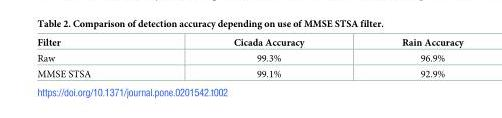table: (36, 37, 462, 78)
table column: (161, 37, 352, 78), (36, 37, 161, 78), (352, 37, 462, 78)
table column header: (36, 37, 462, 49)
table row: (36, 49, 462, 65), (36, 65, 462, 78), (36, 37, 462, 49)
